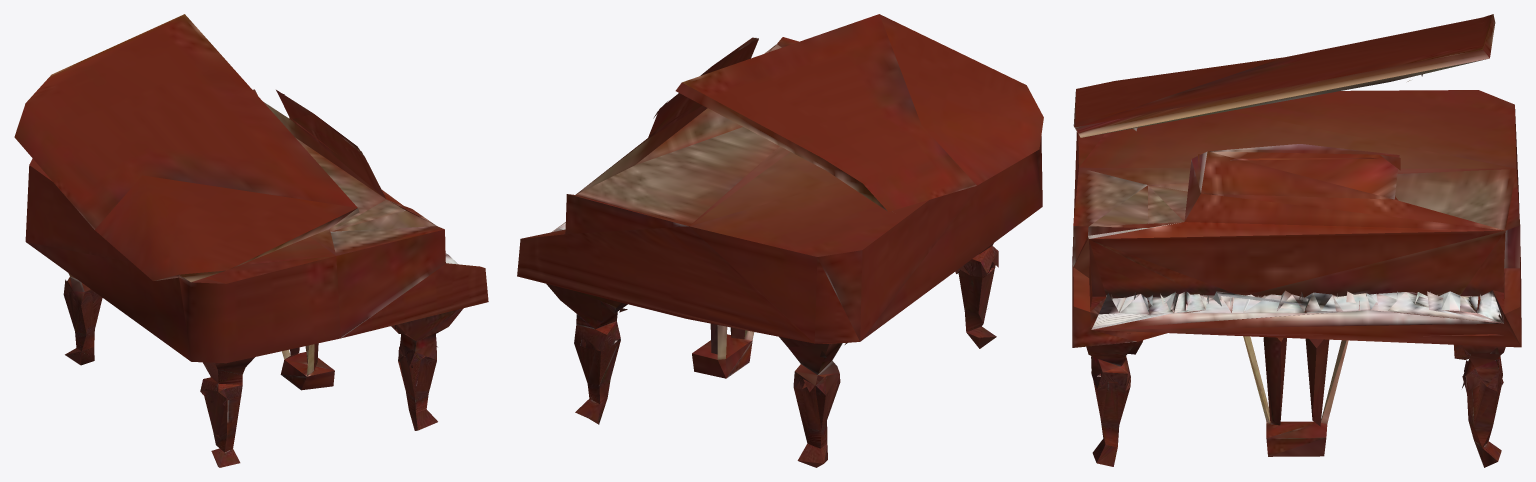
The model's file is mj-piano-grand.lod1.glb.
3 renders of one model, left to right at view 1: azimuth 30°, elevation 25°; view 2: azimuth 150°, elevation 25°; view 3: azimuth 270°, elevation 25°, orthographic. The views are drawn at different scales.
Parts seen in each view (by area): view 1: mj-piano-grand; view 2: mj-piano-grand; view 3: mj-piano-grand.
Part boxes in pixels (x1=…): mj-piano-grand: x1=14, y1=14, x2=488, y2=467; mj-piano-grand: x1=517, y1=14, x2=1043, y2=467; mj-piano-grand: x1=1072, y1=14, x2=1521, y2=467.
Bounding box in the file's own units: 1.47 × 1.47 × 1.6.
Materials: 1 (1 with a texture image).
